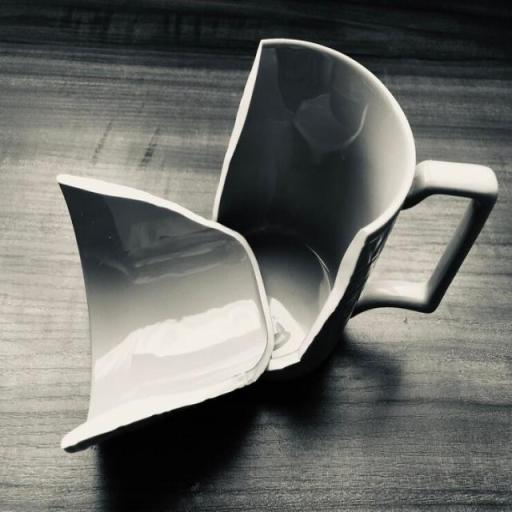glass: (196, 28, 502, 382), (40, 152, 279, 473)
